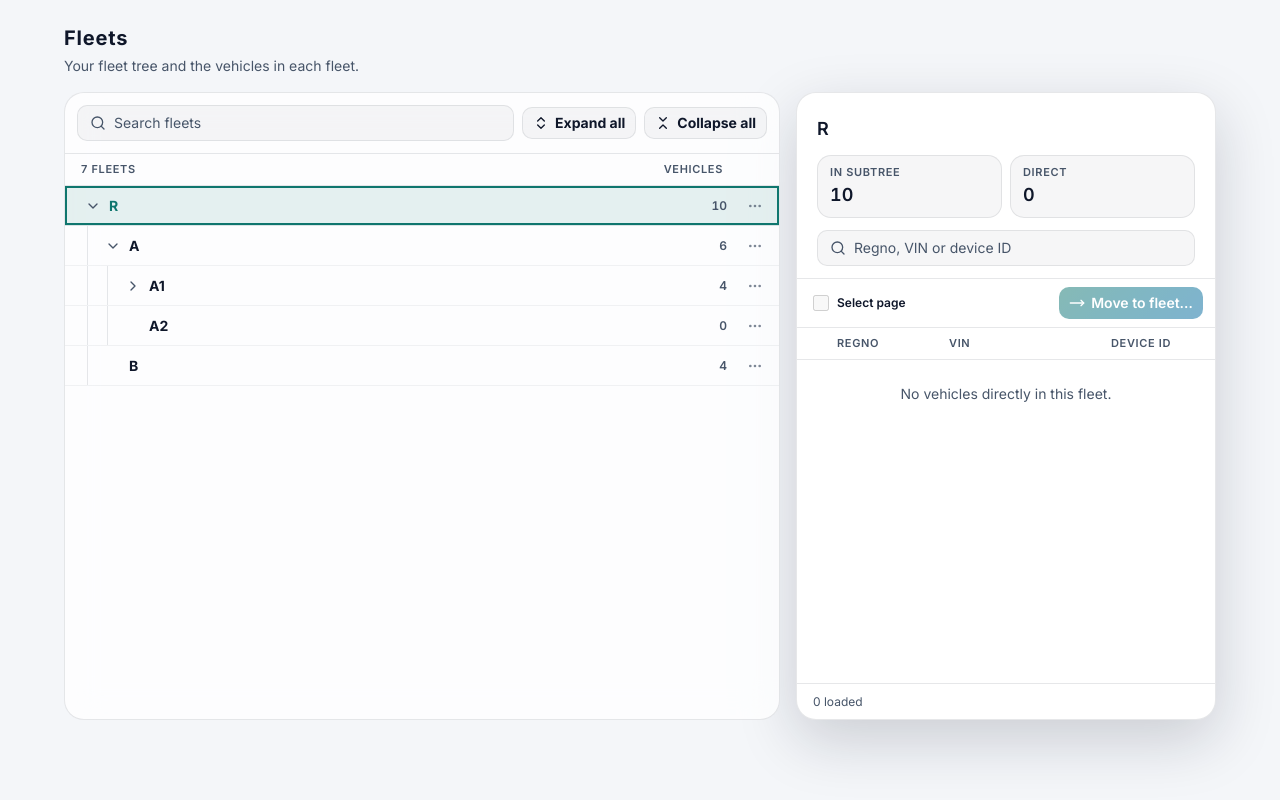
Test: F03-T2 FleetsPage › renders the tree; keyboard navigation follows the tree pattern; F2 renames inline
Press Arrowdown Arrowleft
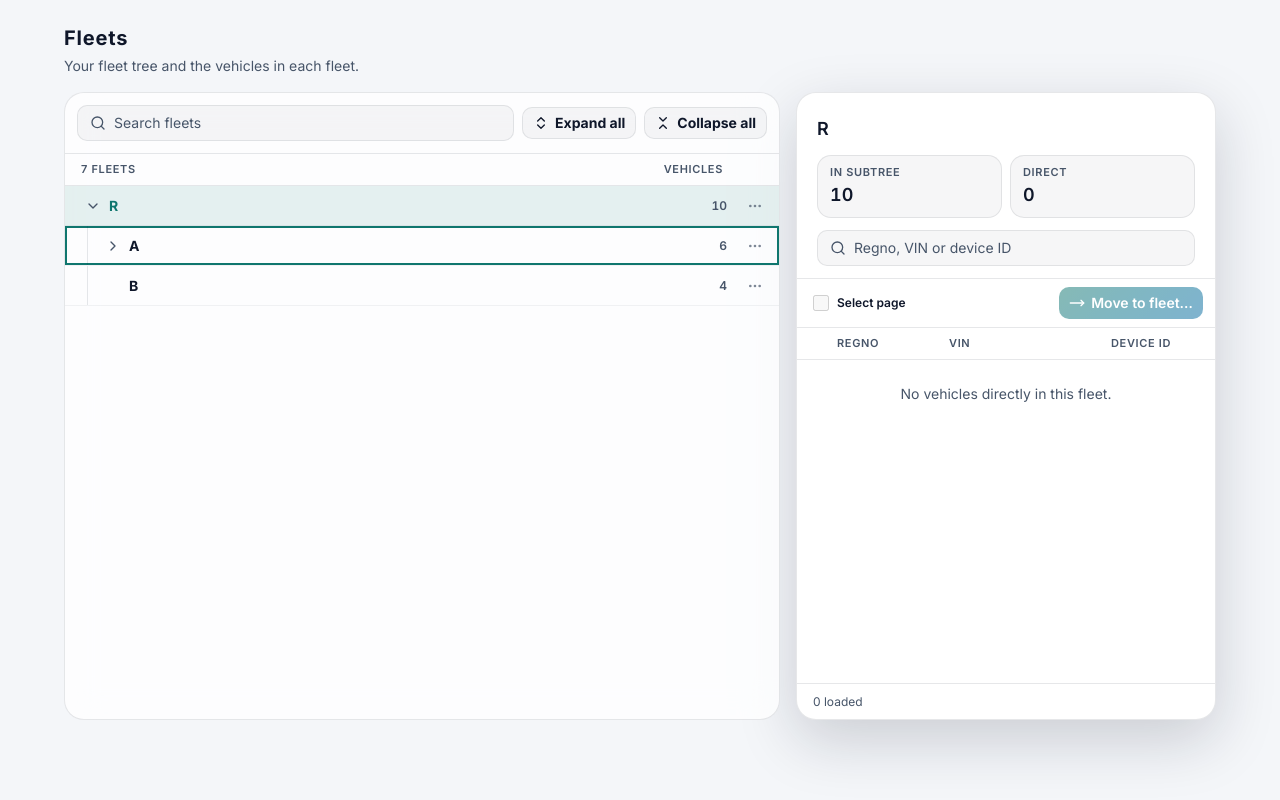
Now the list item "A" is collapsed, box [65, 226, 779, 266]
Now the text "A1" is gone
Press Arrowright Arrowright
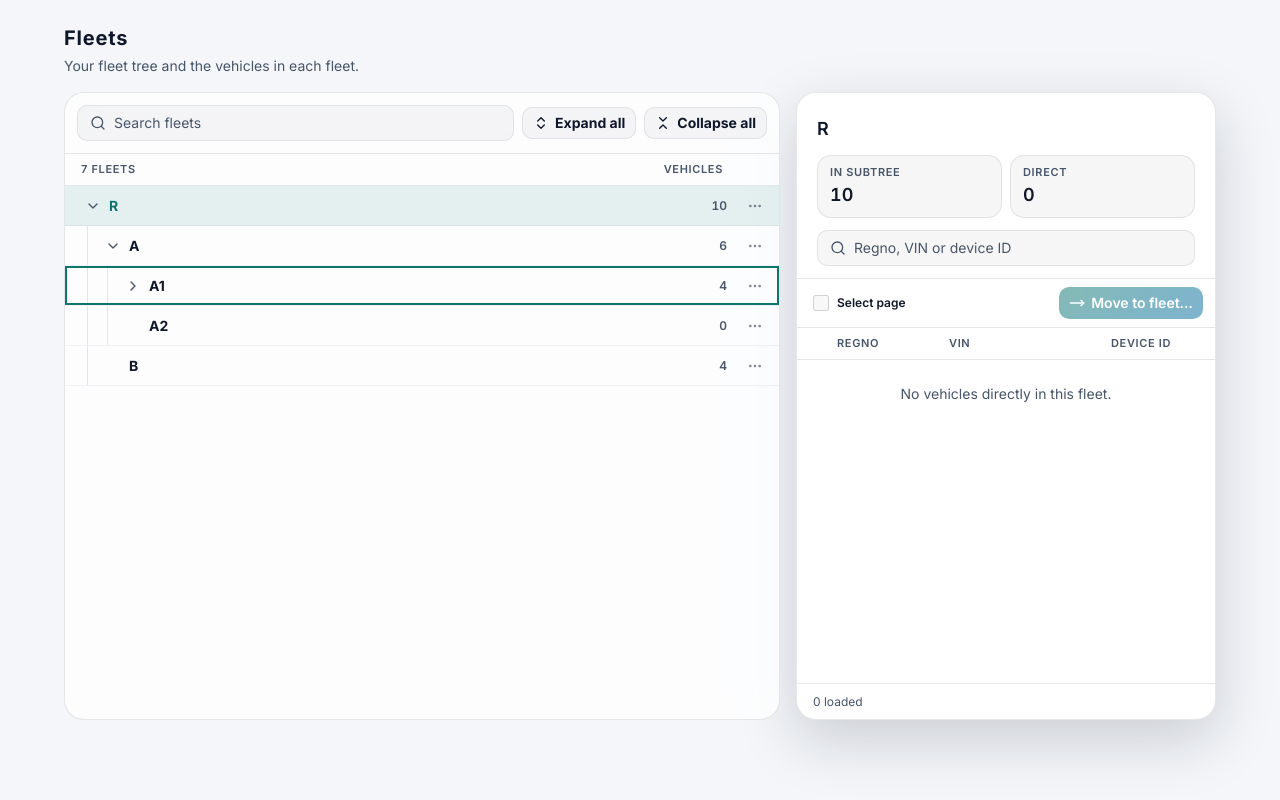
Press Enter
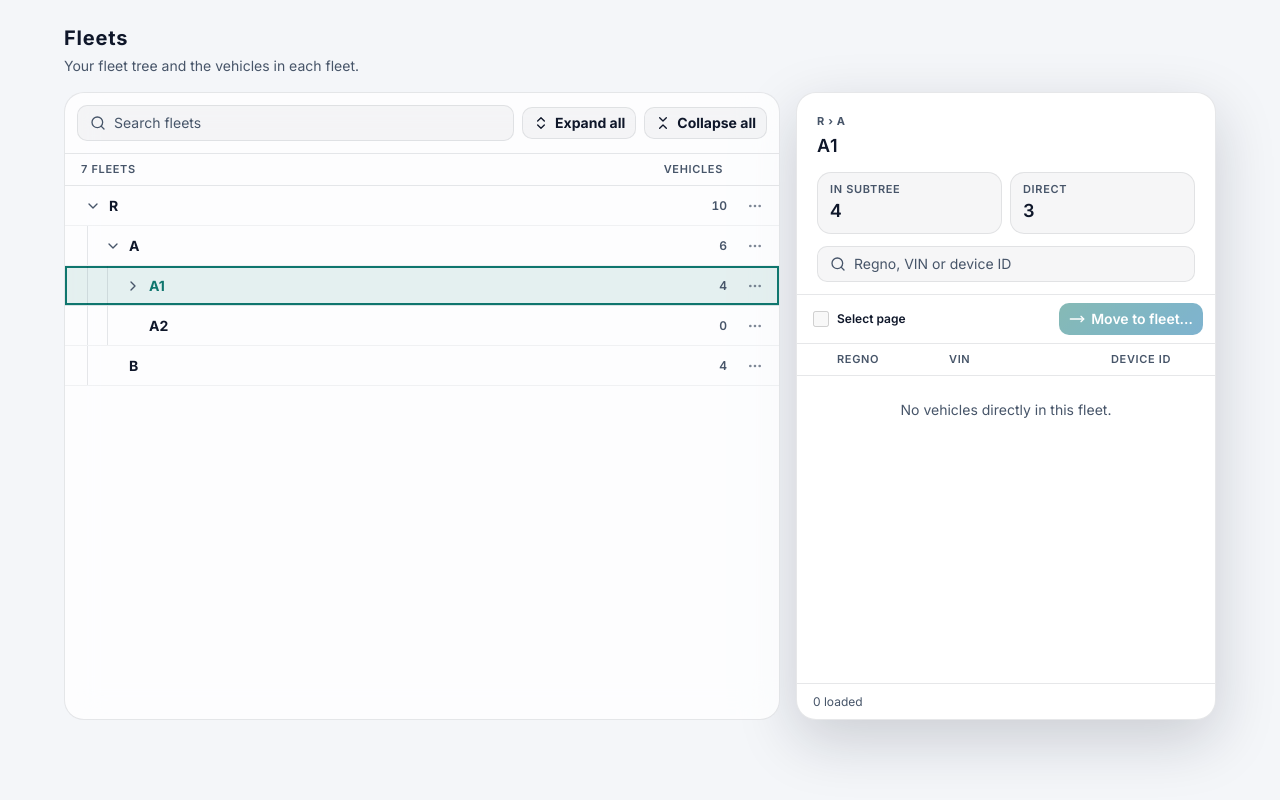
Now the list item "A1" is selected, box [65, 266, 779, 306]
Press F2
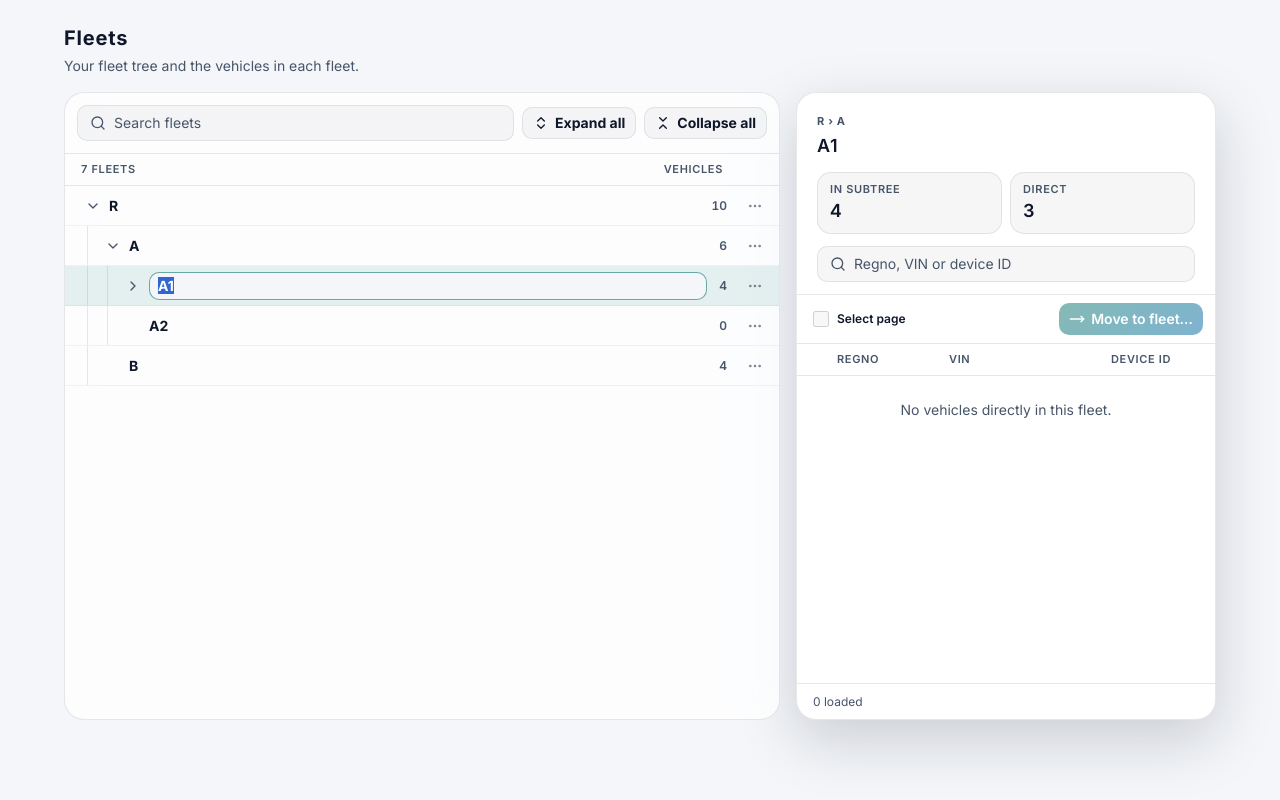
Replace the text in the field named "Fleet name" with "Alpha one" at (428, 286), box [149, 272, 707, 300]
Then press Enter
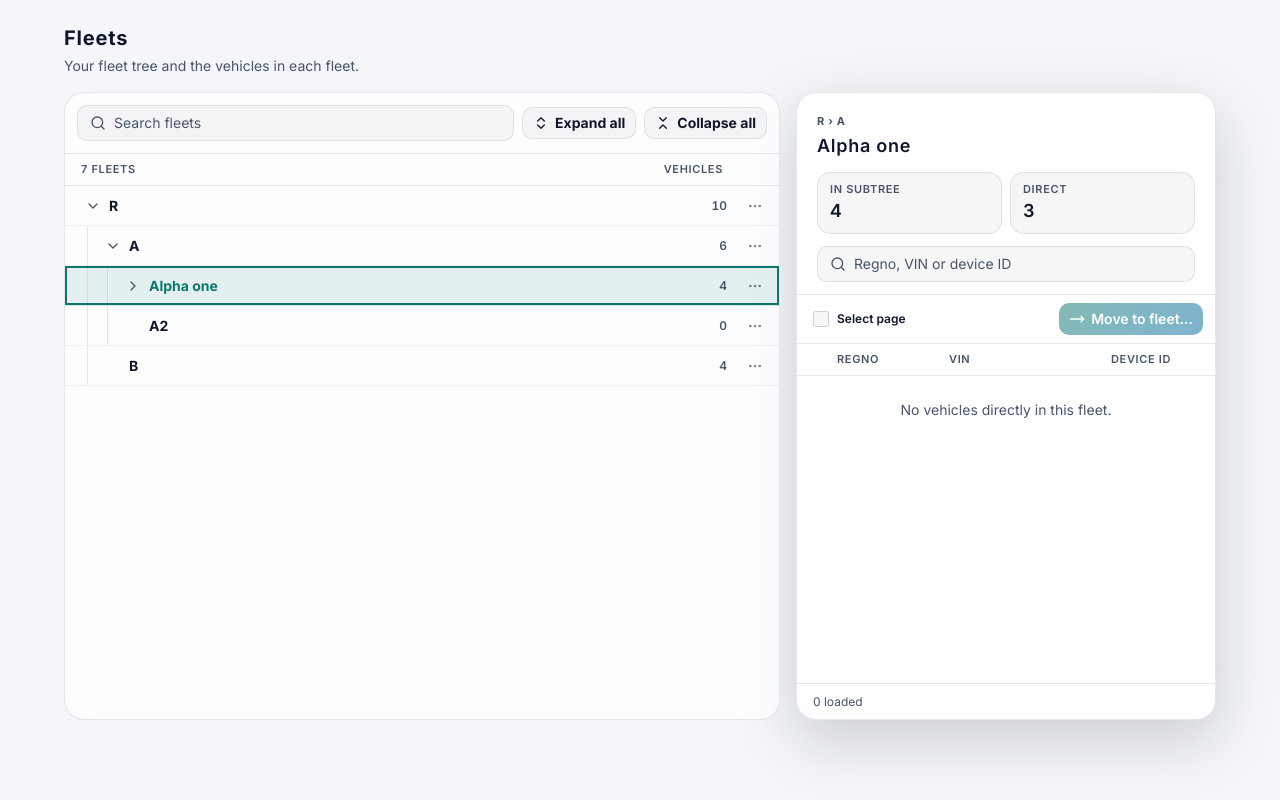
Now the list item "Alpha one" is shown, box [65, 266, 779, 306]
